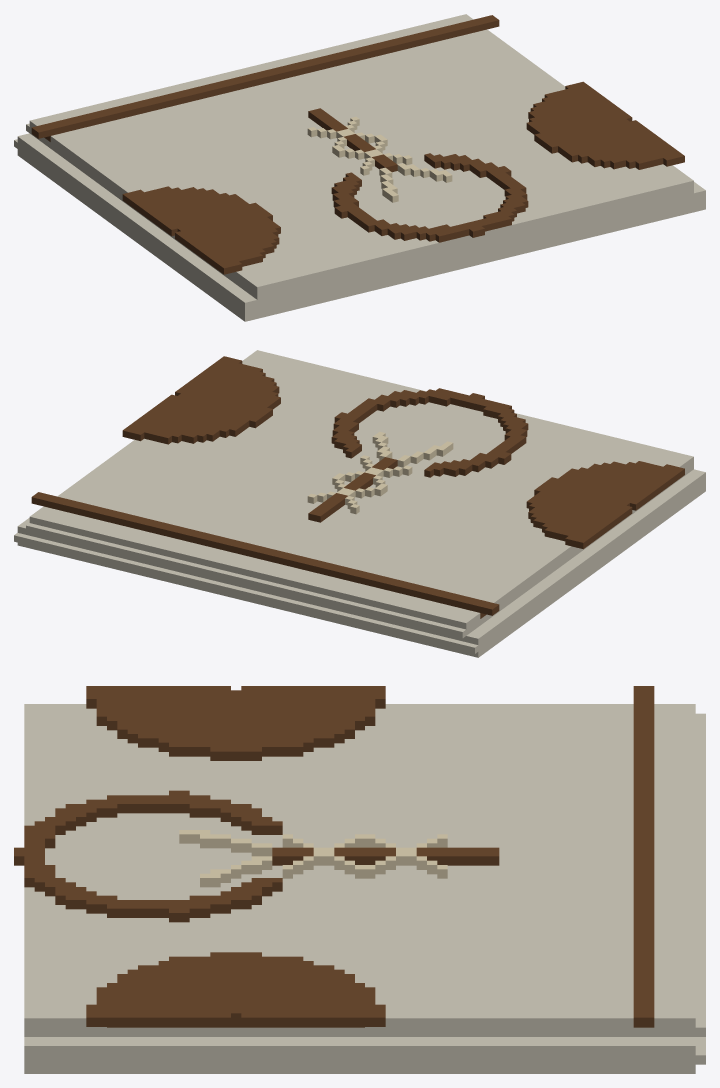
The model's file is sleeveless_tunic.glb.
3 views of the same model, one above another, from view 1: azimuth 30°, elevation 25°; view 2: azimuth 150°, elevation 25°; view 3: azimuth 270°, elevation 25° (orthographic). The views are drawn at different scales.
Parts seen in each view (by area): view 1: sleeveless_tunic:compound; view 2: sleeveless_tunic:compound; view 3: sleeveless_tunic:compound.
Boxes of the visible parts, bbox=[...] form: sleeveless_tunic:compound: bbox=[14, 14, 705, 321]; sleeveless_tunic:compound: bbox=[14, 350, 705, 657]; sleeveless_tunic:compound: bbox=[14, 686, 705, 1073].
Bounding box in the file's own units: 0.304 × 0.024 × 0.268.
